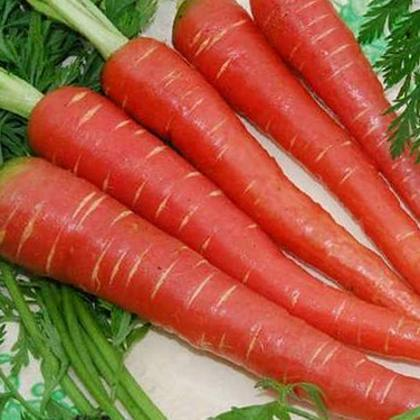carrot: (15, 29, 420, 385)
